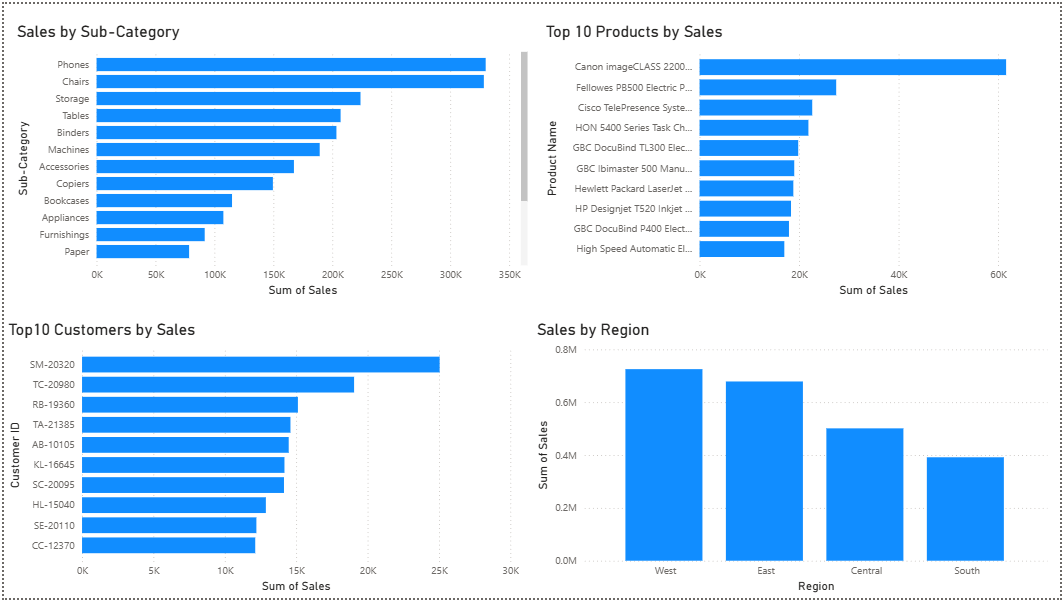

Layout of this report page (visuals, bound fields, positions):
{"tool":"powerbi","page":{"name":"Page 2","canvas":[1280,720],"ordinal":1},"visuals":[{"type":"clusteredBarChart","title":"Sales by Sub-Category","fields":{"Category":["Sample_ Superstore (2).Sub-Category"],"Y":["Sum(Sample_ Superstore (2).Sales)"]},"box":[11.3,22.6,629,337.1],"z":0},{"type":"clusteredBarChart","title":"Top 10 Products by Sales ","fields":{"Category":["Sample_ Superstore (2).Product Name"],"Y":["Sum(Sample_ Superstore (2).Sales)"]},"box":[651.6,22.6,629,337.1],"z":1},{"type":"clusteredBarChart","title":"Top10 Customers by Sales","fields":{"Category":["Sample_ Superstore (2).Customer ID"],"Y":["Sum(Sample_ Superstore (2).Sales)"]},"box":[0,383.9,629,335.5],"z":2},{"type":"clusteredColumnChart","title":"Sales by Region","fields":{"Category":["Sample_ Superstore (2).Region"],"Y":["Sum(Sample_ Superstore (2).Sales)"]},"box":[640.3,383.9,629,335.5],"z":3}]}

Visuals, with their boxes in screenshot pixels (x1, y1, x2, y2), scaled from the page's 1280x720 canvas onto the 1062x606 screenshot:
"Sales by Sub-Category" clusteredBarChart: box=[9, 19, 531, 303]
"Top 10 Products by Sales " clusteredBarChart: box=[541, 19, 1061, 303]
"Top10 Customers by Sales" clusteredBarChart: box=[0, 323, 522, 605]
"Sales by Region" clusteredColumnChart: box=[531, 323, 1053, 605]
